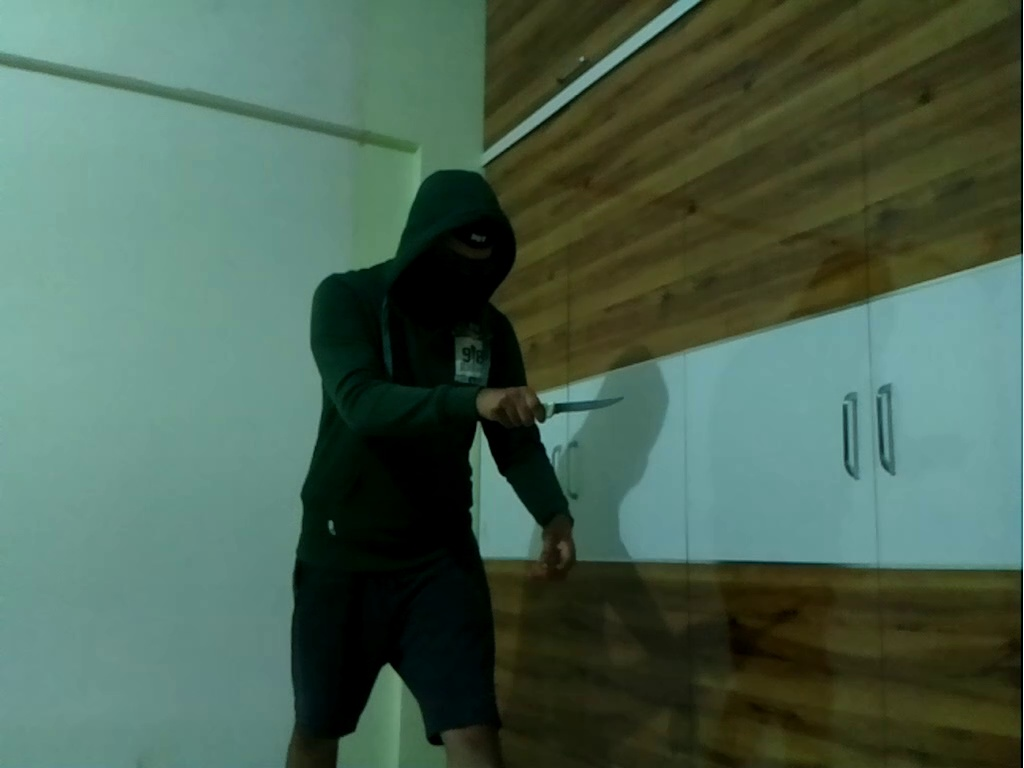knife: (513, 398, 627, 425)
